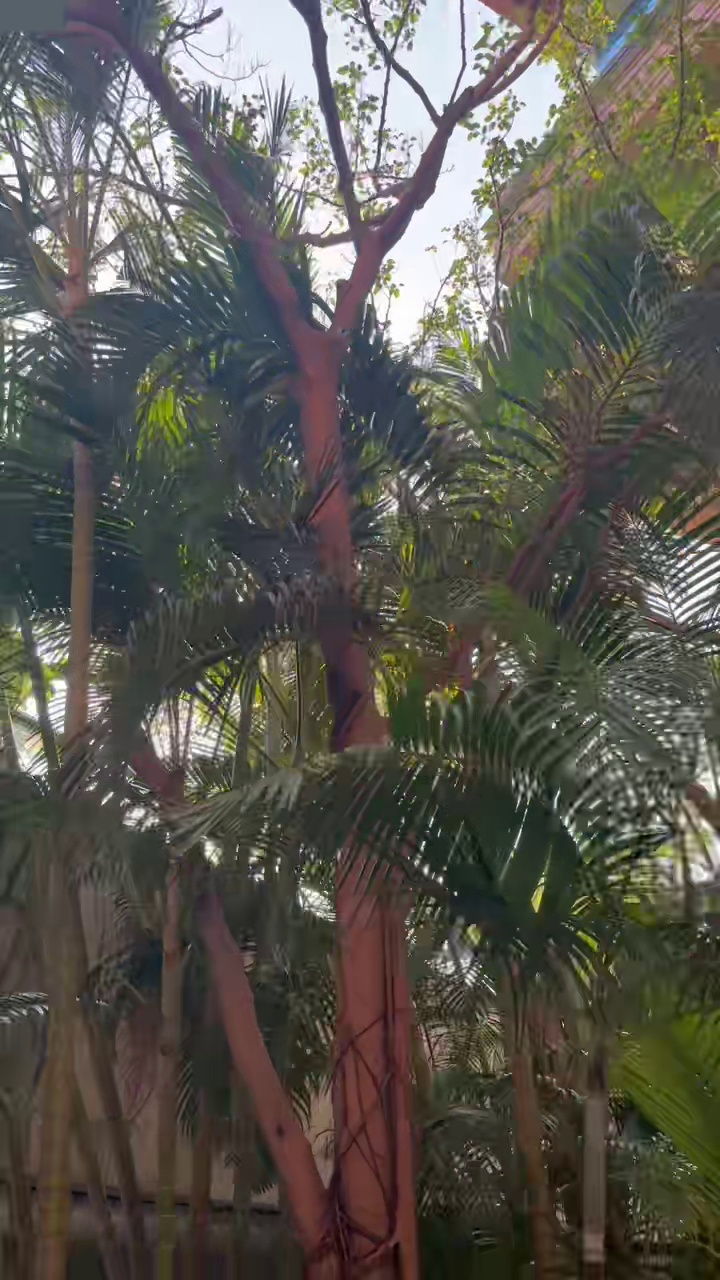Ficus benjamina: (62, 0, 558, 1279)
